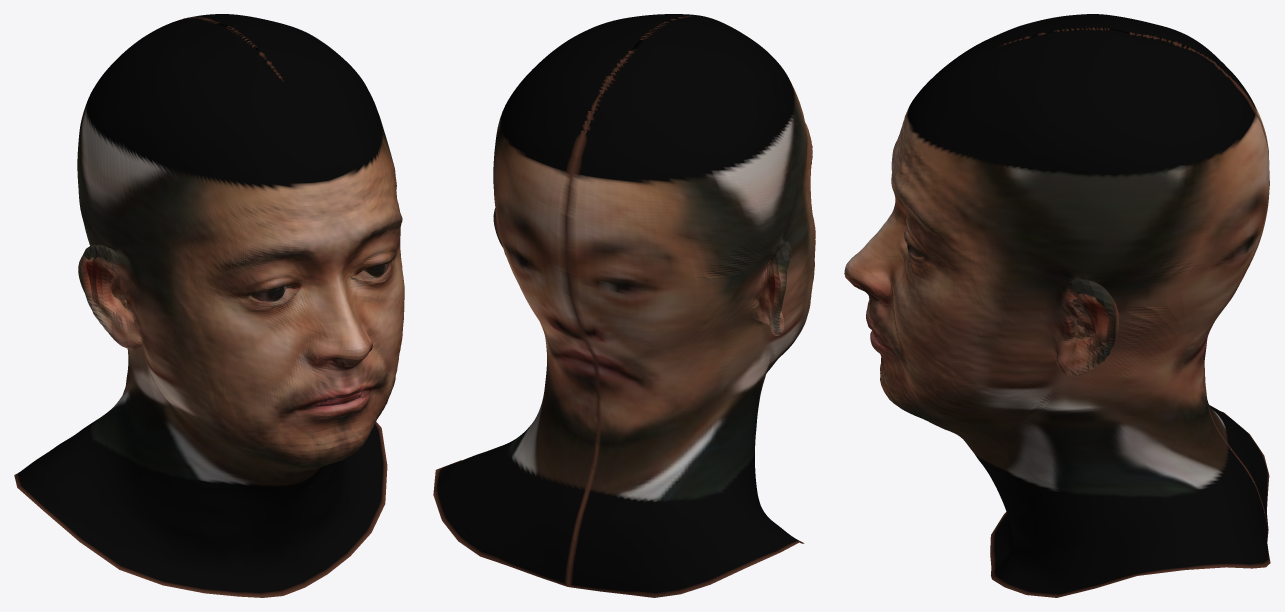
The model's file is mesh_coarse_detail.obj.
3 renders of one model, left to right at view 1: azimuth 30°, elevation 25°; view 2: azimuth 150°, elevation 25°; view 3: azimuth 270°, elevation 25°, orthographic. The views are drawn at different scales.
Bounding box in the file's own units: 0.2178 × 0.3189 × 0.2279.
